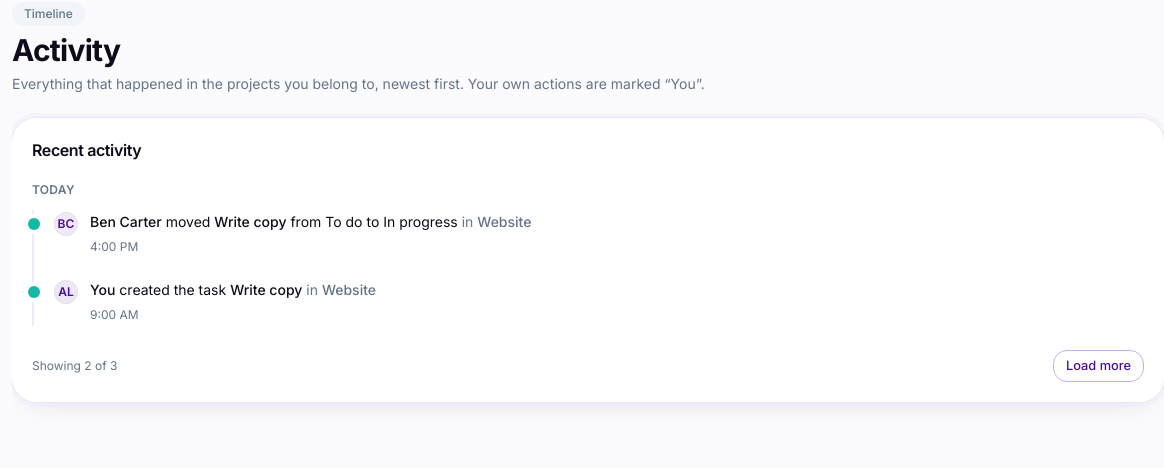
it: activity page › keeps the loaded entries and says so when loading more fails
Click the button "Load more" at {"x": 1098, "y": 366}, box [1053, 350, 1144, 382]
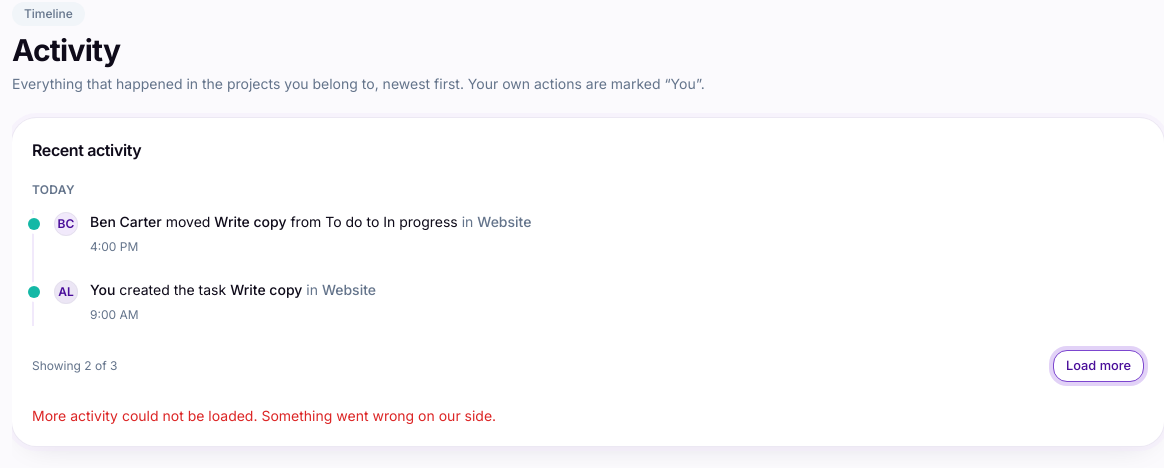
Expected: the element "Today" is shown, [32, 182, 1144, 326]
Result: the text "More activity could not be loaded. Something went wrong on our side." is shown at [32, 407, 496, 424]
